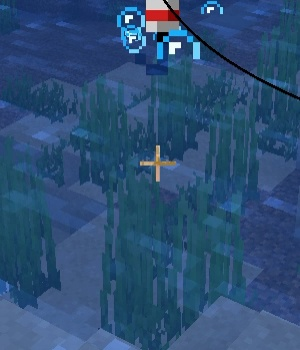up: (134, 1, 187, 72)
